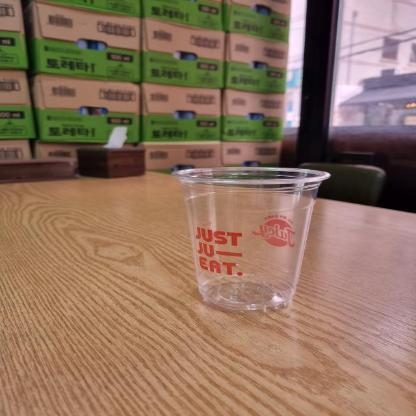Plastic Cup: (173, 167, 333, 313)
